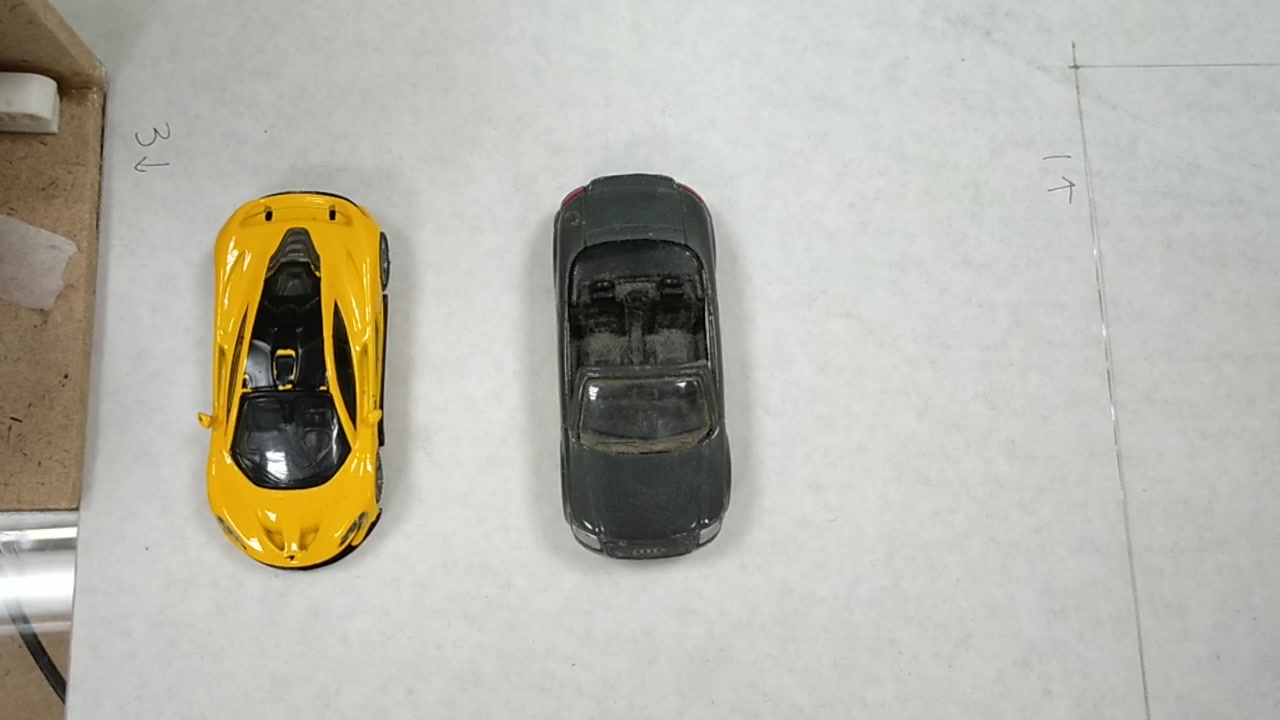car: (203, 191, 399, 550), (559, 171, 732, 542)
